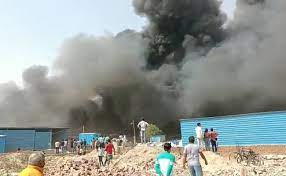smoke: (80, 1, 286, 137)
